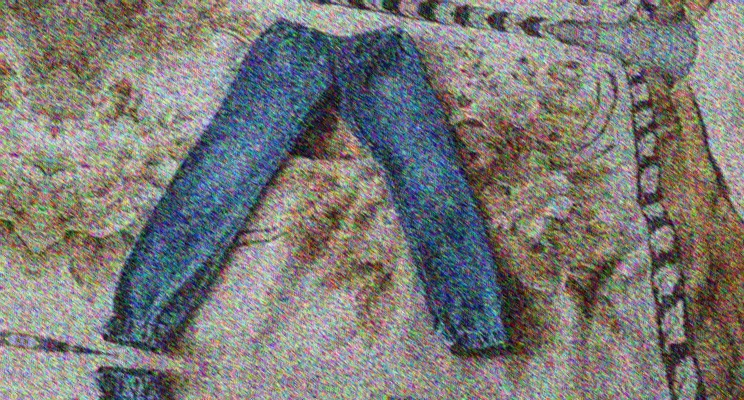Pants: (102, 0, 564, 400), (43, 368, 505, 400), (163, 0, 625, 7)
